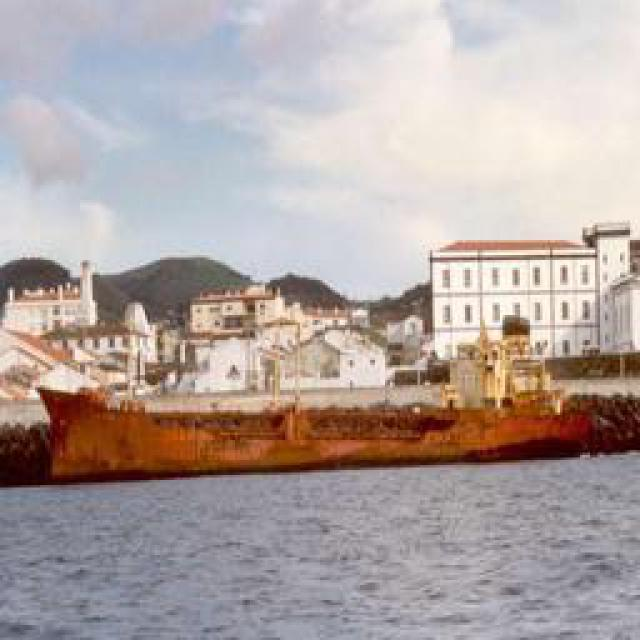Ship: (39, 377, 604, 480)
